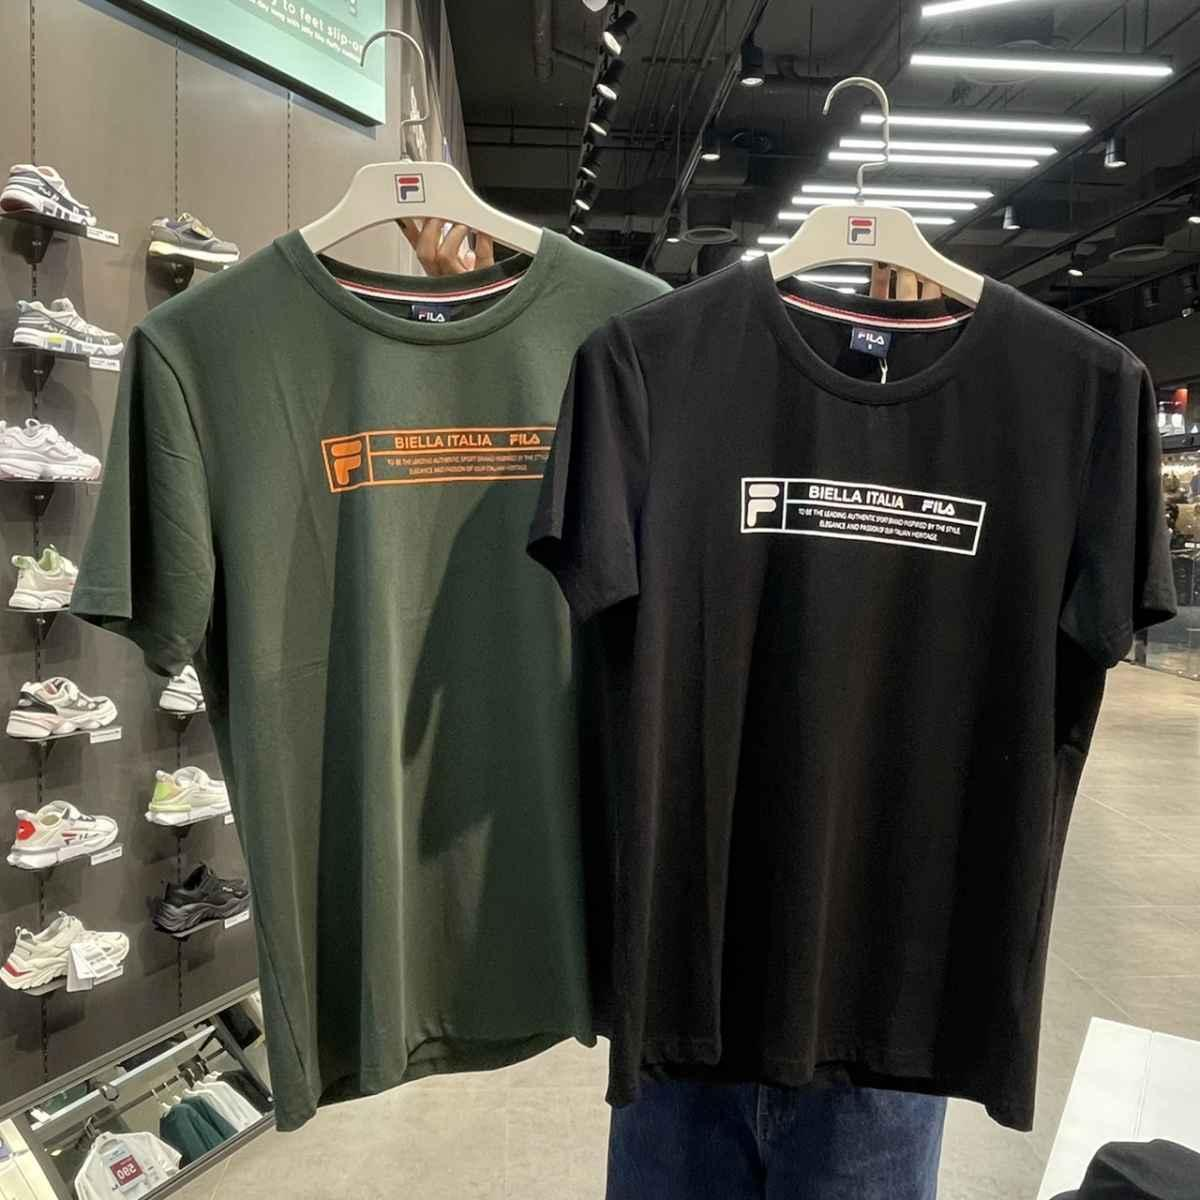Tshirt: (562, 264, 1165, 1100), (107, 223, 593, 1051)
